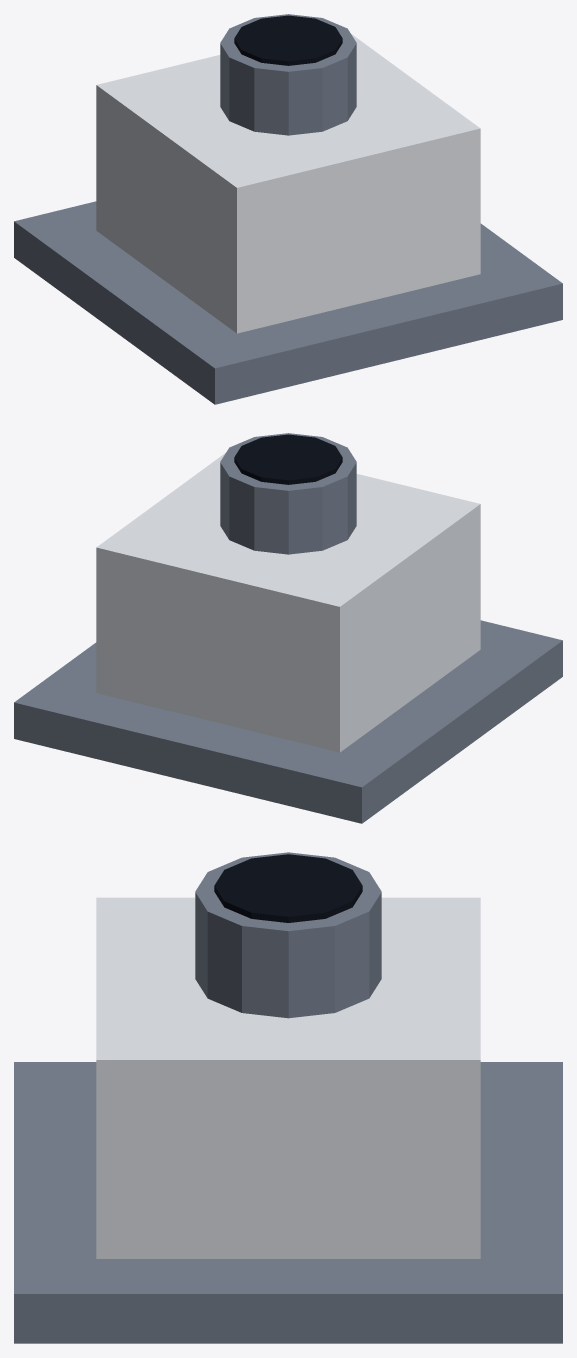
File: Inst_Radiation.glb
The picture shows the model from 3 angles, top to bottom: view 1: azimuth 30°, elevation 25°; view 2: azimuth 150°, elevation 25°; view 3: azimuth 270°, elevation 25°; orthographic projection. The views are drawn at different scales.
Visible parts, largest first — view 1: Inst_Radiation; view 2: Inst_Radiation; view 3: Inst_Radiation.
Part boxes in pixels (x1,y1,x2,y2): Inst_Radiation: (14,14,562,404); Inst_Radiation: (14,433,562,823); Inst_Radiation: (14,852,562,1343).
Size of the model in its own units: 0.4 by 0.275 by 0.4.
